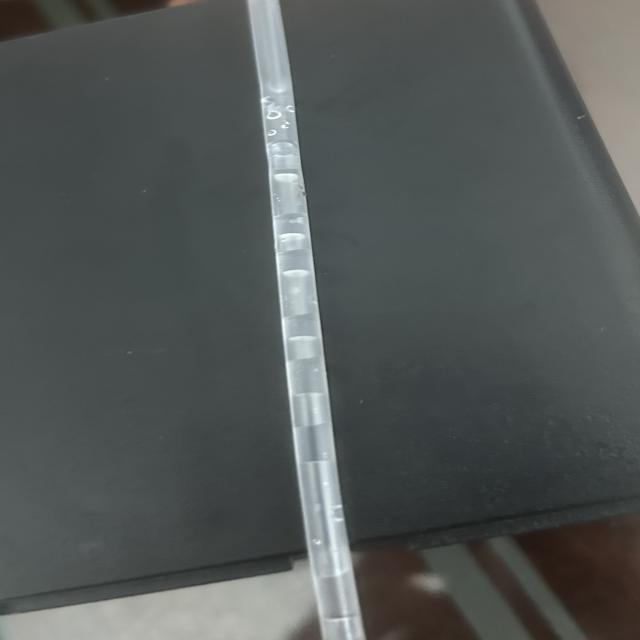bubble: (294, 456, 355, 588), (276, 267, 321, 320), (285, 392, 338, 429), (265, 140, 303, 180), (278, 334, 324, 363), (266, 230, 310, 251), (254, 95, 276, 108), (266, 111, 280, 131), (289, 100, 297, 119)
